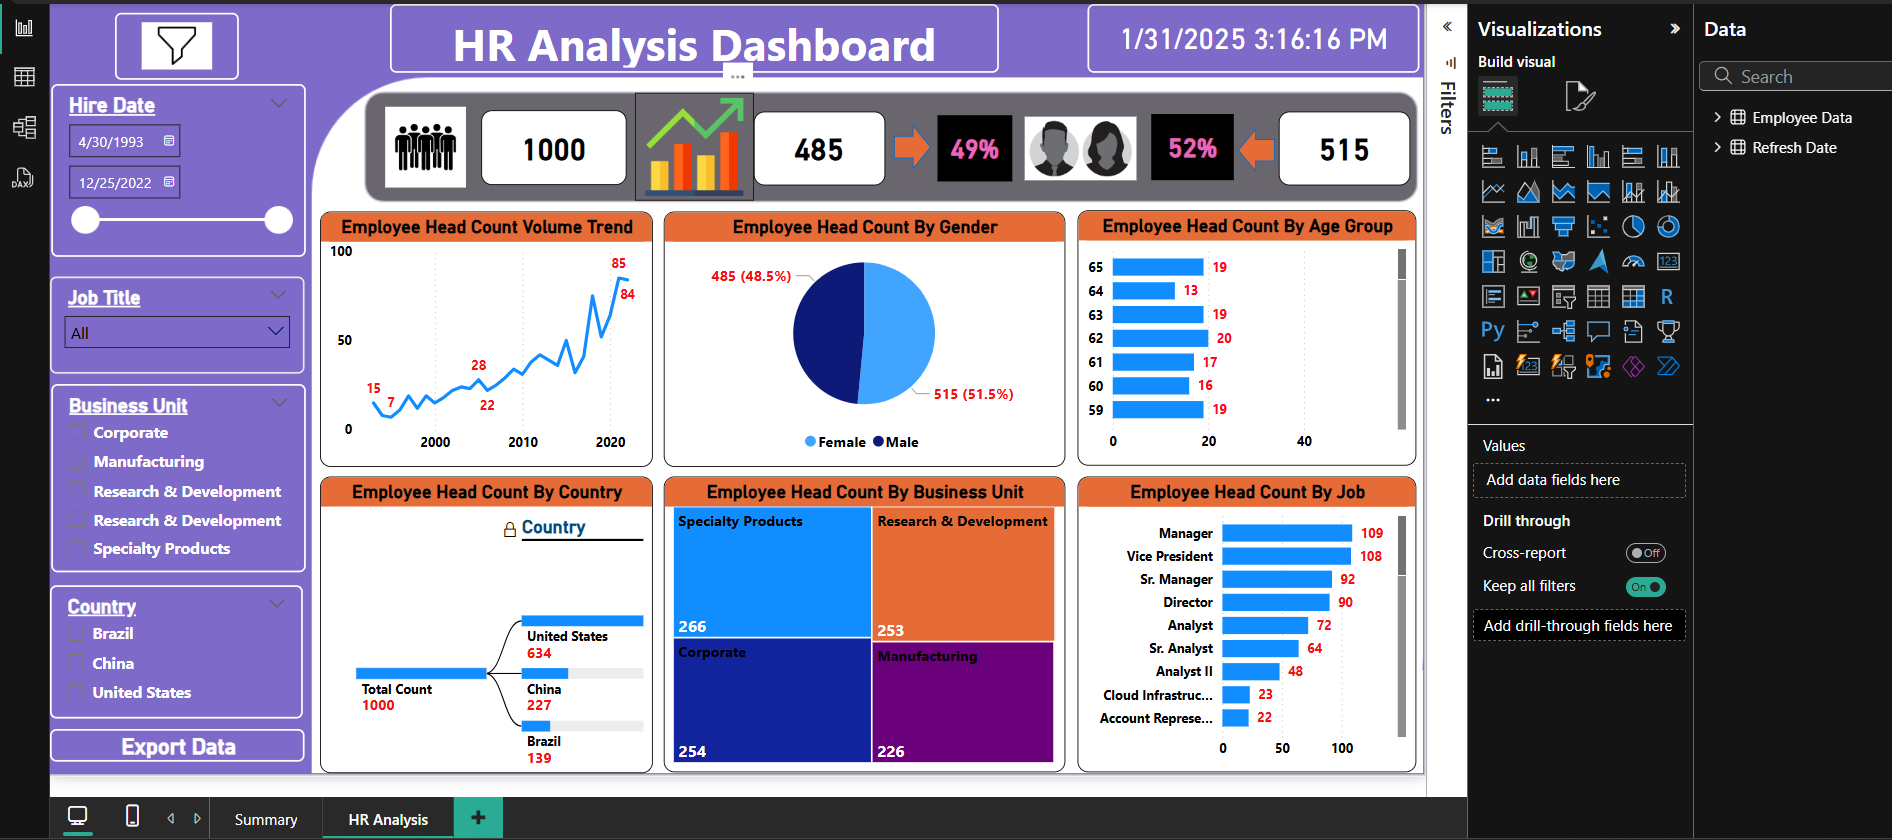

The dashboard page shown, as its layout file describes it:
{"tool":"powerbi","page":{"name":"HR Analysis","canvas":[1280,720],"ordinal":1},"visuals":[{"type":"card","title":"Count","fields":{"Values":["CountNonNull(Employee Data.Employee ID)"]},"box":[401.2,98.8,134.9,69.8],"z":0},{"type":"lineChart","title":"Employee Head Count Volume Trend","fields":{"Category":["Employee Data.Hire Date.Variation.Date Hierarchy.Year"],"Y":["CountNonNull(Employee Data.Employee ID)"]},"box":[251.2,193,309.3,237.2],"z":1000},{"type":"image","box":[307,88.4,84.9,89.5],"z":2000},{"type":"pieChart","title":"Employee Head Count By Gender","fields":{"Category":["Employee Data.Gender"],"Y":["CountNonNull(Employee Data.Employee ID)"]},"box":[570.9,193,373.3,237.2],"z":3000},{"type":"clusteredBarChart","title":"Employee Head Count By Age Group","fields":{"Category":["Employee Data.Age"],"Y":["CountNonNull(Employee Data.Employee ID)"]},"box":[955.8,191.9,315.1,237.2],"z":4000},{"type":"decompositionTreeVisual","title":"Employee Head Count By Country","fields":{"Analyze":["CountNonNull(Employee Data.Country)"],"ExplainBy":["Employee Data.Country"]},"box":[250.7,440.1,309.6,275.6],"z":5000},{"type":"treemap","title":"Employee Head Count By Business Unit","fields":{"Values":["CountNonNull(Employee Data.Employee ID)"],"Group":["Employee Data.Business Unit"]},"box":[570.9,439.5,373.3,275.6],"z":6000},{"type":"clusteredBarChart","title":"Employee Head Count By Job","fields":{"Category":["Employee Data.Job Title"],"Y":["CountNonNull(Employee Data.Employee ID)"]},"box":[955.8,439.5,315.1,275.6],"z":7000},{"type":"actionButton","box":[315.8,0,566.8,63.6],"z":8000},{"type":"card","title":"Count","fields":{"Values":["Employee Data.Male Count"]},"box":[654.7,100,122.1,68.6],"z":9000},{"type":"image","box":[816.3,100,284.9,68.6],"z":10000},{"type":"image","box":[544.2,82.6,110.5,101.2],"z":11000},{"type":"card","title":"Count","fields":{"Values":["Employee Data.Female Count"]},"box":[1143,100,122.1,68.6],"z":12000},{"type":"shape","box":[784.9,111.6,34.9,43],"z":13000},{"type":"shape","box":[1104.7,115.1,34.9,41.9],"z":14000},{"type":"card","fields":{"Values":["Employee Data.Male %"]},"box":[825.6,103.5,69.8,61.6],"z":15000},{"type":"card","fields":{"Values":["Employee Data.Female %"]},"box":[1024.4,102.3,76.7,61.6],"z":16000},{"type":"slicer","fields":{"Values":["Employee Data.Business Unit"]},"box":[1.2,353,236.5,175.3],"z":17000},{"type":"slicer","fields":{"Values":["Employee Data.Country"]},"box":[0,540.3,235.3,123.7],"z":18000},{"type":"slicer","fields":{"Values":["Employee Data.Job Title"]},"box":[0,253.4,236.5,90.1],"z":19000},{"type":"slicer","fields":{"Values":["Employee Data.Hire Date"]},"box":[1.2,74.4,236.5,160.9],"z":20000},{"type":"card","fields":{"Values":["Min(Refresh Date.Refresh Date)"]},"box":[965.4,0,308.6,63.6],"z":21000},{"type":"image","title":"Filter","box":[60,8.4,115.3,62.4],"z":22000},{"type":"tableEx","title":"Export Data","fields":{"Values":["Employee Data.Employee ID","Employee Data.Full Name","Employee Data.Gender","Employee Data.Department","Employee Data.City","Employee Data.Country","Sum(Employee Data.Age)","Employee Data.Job Title"]},"box":[0,674.8,236.5,30],"z":23000}]}

Visuals, with their boxes on the page's 1280x720 design canvas (x1, y1, x2, y2). These are canvas units, not pixel positions in the 1892x840 screenshot, which may show the page scaled, cropped or inside an application window:
"Count" card: select_region(401, 99, 536, 169)
"Employee Head Count Volume Trend" lineChart: select_region(251, 193, 560, 430)
image: select_region(307, 88, 392, 178)
"Employee Head Count By Gender" pieChart: select_region(571, 193, 944, 430)
"Employee Head Count By Age Group" clusteredBarChart: select_region(956, 192, 1271, 429)
"Employee Head Count By Country" decompositionTreeVisual: select_region(251, 440, 560, 716)
"Employee Head Count By Business Unit" treemap: select_region(571, 440, 944, 715)
"Employee Head Count By Job" clusteredBarChart: select_region(956, 440, 1271, 715)
actionButton: select_region(316, 0, 883, 64)
"Count" card: select_region(655, 100, 777, 169)
image: select_region(816, 100, 1101, 169)
image: select_region(544, 83, 655, 184)
"Count" card: select_region(1143, 100, 1265, 169)
shape: select_region(785, 112, 820, 155)
shape: select_region(1105, 115, 1140, 157)
card - Employee Data.Male %: select_region(826, 104, 895, 165)
card - Employee Data.Female %: select_region(1024, 102, 1101, 164)
slicer - Employee Data.Business Unit: select_region(1, 353, 238, 528)
slicer - Employee Data.Country: select_region(0, 540, 235, 664)
slicer - Employee Data.Job Title: select_region(0, 253, 236, 344)
slicer - Employee Data.Hire Date: select_region(1, 74, 238, 235)
card - Min(Refresh Date.Refresh Date): select_region(965, 0, 1274, 64)
"Filter" image: select_region(60, 8, 175, 71)
"Export Data" tableEx: select_region(0, 675, 236, 705)
